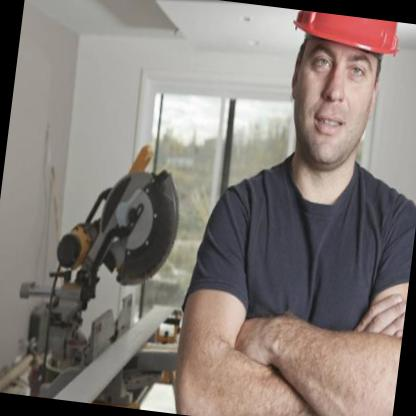bee: (263, 8, 414, 180)
